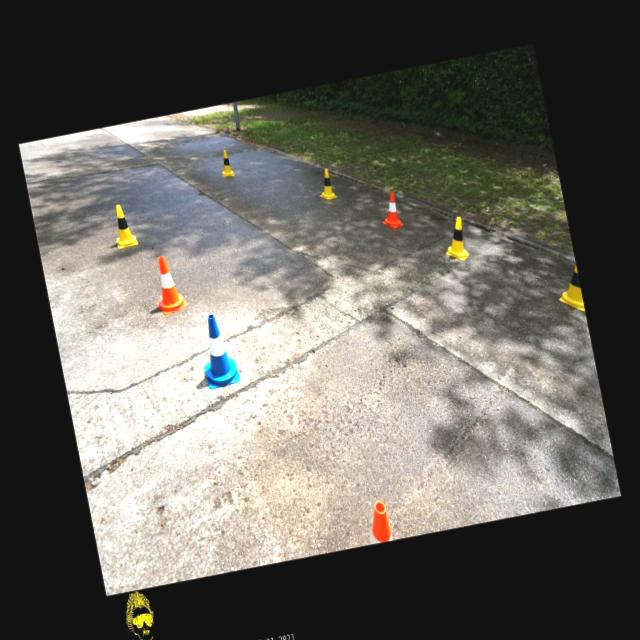blue_cone: (194, 311, 241, 390)
orange_cone: (148, 253, 189, 317), (361, 500, 392, 544), (378, 189, 404, 231)
yellow_cone: (554, 264, 586, 316), (440, 216, 470, 263), (110, 203, 138, 249), (314, 166, 338, 202), (218, 148, 235, 178)
